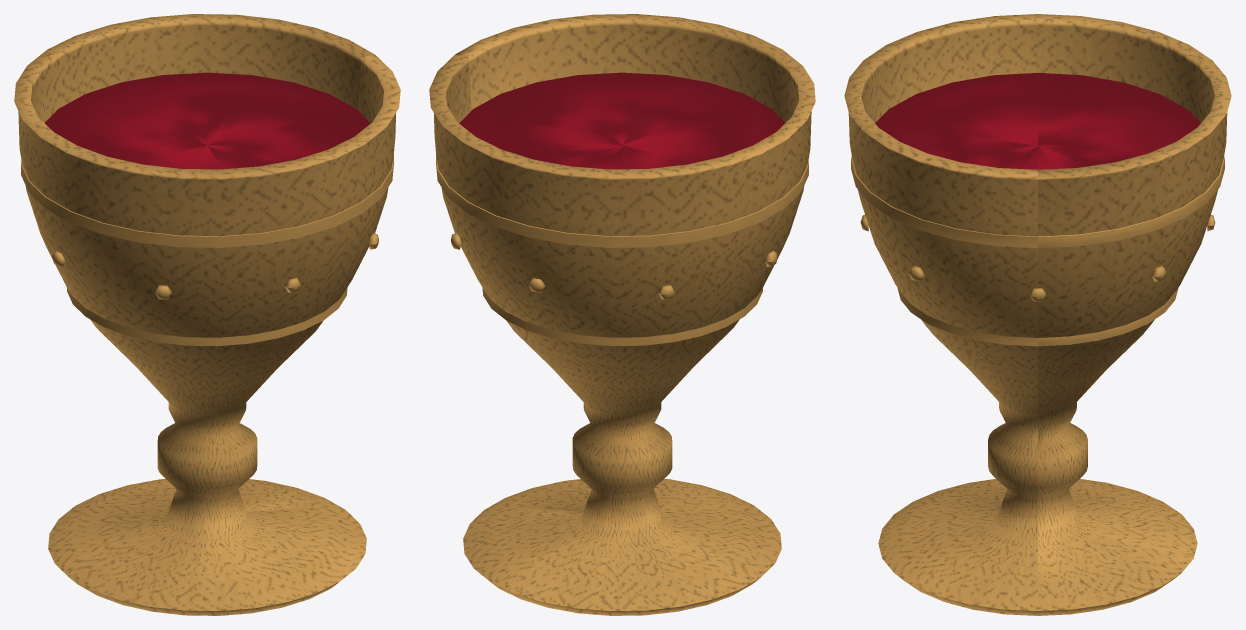
Rendered from FeastGoblet.glb.
The picture shows the model from 3 angles, left to right: view 1: azimuth 30°, elevation 25°; view 2: azimuth 150°, elevation 25°; view 3: azimuth 270°, elevation 25°; orthographic projection.
Parts seen in each view (by area): view 1: FeastGoblet; view 2: FeastGoblet; view 3: FeastGoblet.
Part boxes in pixels (x1,y1,x2,y2): FeastGoblet: (14, 14, 400, 615); FeastGoblet: (429, 14, 815, 615); FeastGoblet: (844, 14, 1231, 615).
Size of the model in its own units: 0.776 by 1.01 by 0.776.
Materials: 1 (1 with a texture image).
